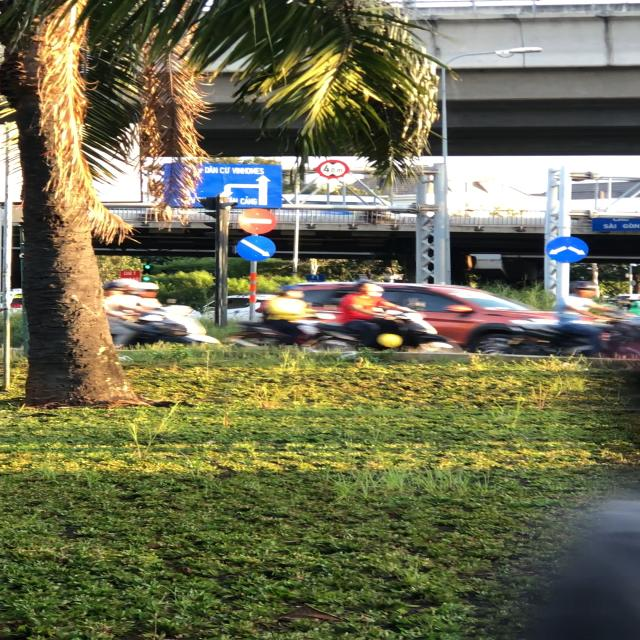Bien bao cam di nguoc chieu: (236, 208, 277, 236)
Bien bao han che chieu cao: (314, 159, 351, 179)
Bien bao huong phai di vong chuong ngai vat: (541, 234, 596, 264), (233, 234, 278, 266)
